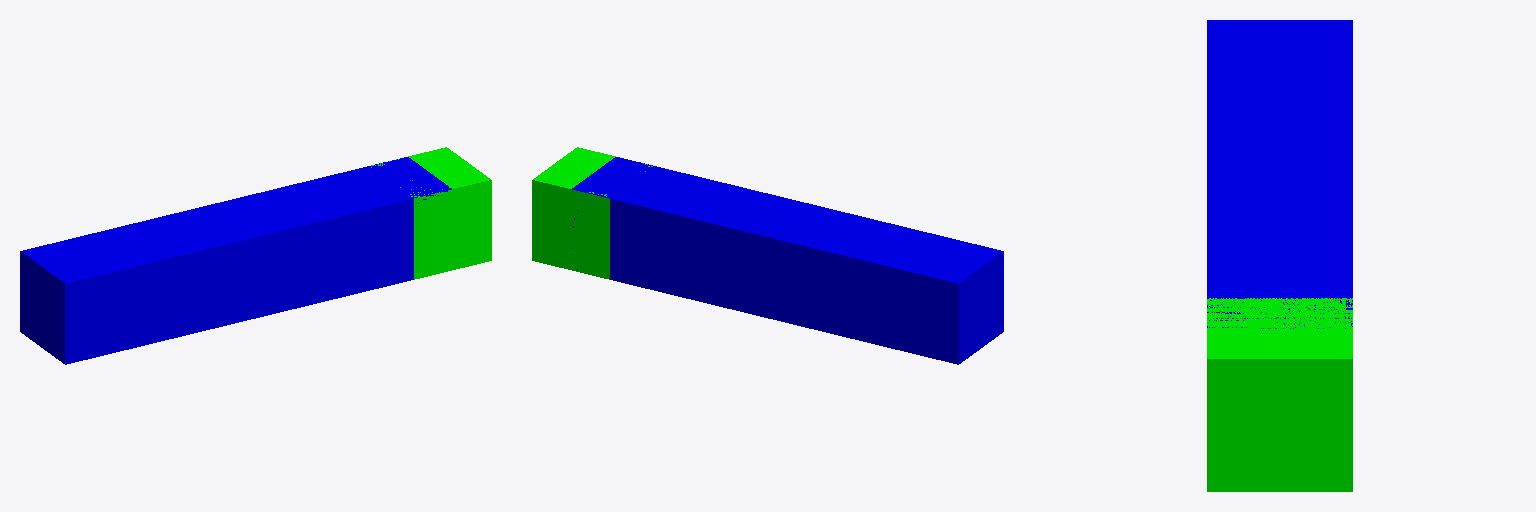
robot.urdf — abb_irb4600_60_205:
<?xml version="1.0" ?>
<!-- =================================================================================== -->
<!-- |    This document was autogenerated by xacro from [local-path]/catkin_ws/src/abb_irb4600_support/urdf/irb4600_60_205.xacro | -->
<!-- |    EDITING THIS FILE BY HAND IS NOT RECOMMENDED                                 | -->
<!-- =================================================================================== -->
<robot name="abb_irb4600_60_205">
    <!-- link list -->
    <link name="base_link">
        <collision name="collision">
            <geometry>
                <mesh filename="package://abb_irb4600_support/meshes/irb4600/collision/base_link.stl" />
            </geometry>
        </collision>
        <visual name="visual">
            <geometry>
                <mesh filename="package://abb_irb4600_support/meshes/irb4600/visual/base_link.dae" />
            </geometry>
            <material name="yellow">
                <color rgba="1 1 0 1" />
            </material>
        </visual>
        <inertial>
            <mass value="0.1" />
            <origin xyz="0 0 0" rpy="0 0 0" />
            <inertia ixx="0.03" iyy="0.03" izz="0.03" ixy="0.0" ixz="0.0" iyz="0.0" />
        </inertial>
    </link>
    <link name="link_1">
        <collision name="collision">
            <geometry>
                <mesh filename="package://abb_irb4600_support/meshes/irb4600/collision/link_1.stl" />
            </geometry>
        </collision>
        <visual name="visual">
            <geometry>
                <mesh filename="package://abb_irb4600_support/meshes/irb4600/visual/link_1.dae" />
            </geometry>
            <material name="yellow" />
        </visual>
        <inertial>
            <mass value="0.1" />
            <origin xyz="0 0 0" rpy="0 0 0" />
            <inertia ixx="0.03" iyy="0.03" izz="0.03" ixy="0.0" ixz="0.0" iyz="0.0" />
        </inertial>
    </link>
    <link name="link_2">
        <collision name="collision">
            <geometry>
                <mesh filename="package://abb_irb4600_support/meshes/irb4600_60_205/collision/link_2.stl" />
            </geometry>
        </collision>
        <visual name="visual">
            <geometry>
                <mesh filename="package://abb_irb4600_support/meshes/irb4600_60_205/visual/link_2.dae" />
            </geometry>
            <material name="yellow" />
        </visual>
        <inertial>
            <mass value="0.1" />
            <origin xyz="0 0 0" rpy="0 0 0" />
            <inertia ixx="0.03" iyy="0.03" izz="0.03" ixy="0.0" ixz="0.0" iyz="0.0" />
        </inertial>
    </link>
    <link name="link_3">
        <collision name="collision">
            <geometry>
                <mesh filename="package://abb_irb4600_support/meshes/irb4600_60_205/collision/link_3.stl" />
            </geometry>
        </collision>
        <visual name="visual">
            <geometry>
                <mesh filename="package://abb_irb4600_support/meshes/irb4600_60_205/visual/link_3.dae" />
            </geometry>
            <material name="yellow" />
        </visual>
        <inertial>
            <mass value="0.1" />
            <origin xyz="0 0 0" rpy="0 0 0" />
            <inertia ixx="0.03" iyy="0.03" izz="0.03" ixy="0.0" ixz="0.0" iyz="0.0" />
        </inertial>
    </link>
    <link name="link_4">
        <collision name="collision">
            <geometry>
                <mesh filename="package://abb_irb4600_support/meshes/irb4600_60_205/collision/link_4.stl" />
            </geometry>
        </collision>
        <visual name="visual">
            <geometry>
                <mesh filename="package://abb_irb4600_support/meshes/irb4600_60_205/visual/link_4.dae" />
            </geometry>
            <material name="yellow" />
        </visual>
        <inertial>
            <mass value="0.1" />
            <origin xyz="0 0 0" rpy="0 0 0" />
            <inertia ixx="0.03" iyy="0.03" izz="0.03" ixy="0.0" ixz="0.0" iyz="0.0" />
        </inertial>
    </link>
    <link name="link_5">
        <collision name="collision">
            <geometry>
                <mesh filename="package://abb_irb4600_support/meshes/irb4600_60_205/collision/link_5.stl" />
            </geometry>
        </collision>
        <visual name="visual">
            <geometry>
                <mesh filename="package://abb_irb4600_support/meshes/irb4600_60_205/visual/link_5.dae" />
            </geometry>
            <material name="yellow" />
        </visual>
        <inertial>
            <mass value="0.1" />
            <origin xyz="0 0 0" rpy="0 0 0" />
            <inertia ixx="0.03" iyy="0.03" izz="0.03" ixy="0.0" ixz="0.0" iyz="0.0" />
        </inertial>
    </link>
    <link name="link_6">
        <collision name="collision">
            <geometry>
                <mesh filename="package://abb_irb4600_support/meshes/irb4600_60_205/collision/link_6.stl" />
            </geometry>
        </collision>
        <visual name="visual">
            <geometry>
                <mesh filename="package://abb_irb4600_support/meshes/irb4600_60_205/visual/link_6.dae" />
            </geometry>
            <material name="yellow" />
        </visual>
        <inertial>
            <mass value="0.1" />
            <origin xyz="0 0 0" rpy="0 0 0" />
            <inertia ixx="0.03" iyy="0.03" izz="0.03" ixy="0.0" ixz="0.0" iyz="0.0" />
        </inertial>
    </link>
    <!-- end of link list -->
    <!-- joint list -->
    <joint name="joint_1" type="revolute">
        <origin rpy="0 0 0" xyz="0 0 0.495" />
        <axis xyz="0 0 1" />
        <parent link="base_link" />
        <child link="link_1" />
        <limit effort="0" lower="-3.141" upper="3.141" velocity="3.054" />
    </joint>
    <joint name="joint_2" type="revolute">
        <origin rpy="0 0 0" xyz="0.175 0 0" />
        <axis xyz="0 1 0" />
        <parent link="link_1" />
        <child link="link_2" />
        <limit effort="0" lower="-1.570" upper="2.617" velocity="3.054" />
    </joint>
    <joint name="joint_3" type="revolute">
        <origin rpy="0 0 0" xyz="0 0 0.9" />
        <axis xyz="0 1 0" />
        <parent link="link_2" />
        <child link="link_3" />
        <limit effort="0" lower="-3.141" upper="1.308" velocity="3.054" />
    </joint>
    <joint name="joint_4" type="revolute">
        <origin rpy="0 0 0" xyz="0 0 0.175" />
        <axis xyz="1 0 0" />
        <parent link="link_3" />
        <child link="link_4" />
        <limit effort="0" lower="-6.981" upper="6.981" velocity="4.363" />
    </joint>
    <joint name="joint_5" type="revolute">
        <origin rpy="0 0 0" xyz="0.960 0 0 " />
        <axis xyz="0 1 0" />
        <parent link="link_4" />
        <child link="link_5" />
        <limit effort="0" lower="-2.181" upper="2.094" velocity="4.363" />
    </joint>
    <joint name="joint_6" type="revolute">
        <origin rpy="0 0 0" xyz="0.135 0 0 " />
        <axis xyz="1 0 0" />
        <parent link="link_5" />
        <child link="link_6" />
        <limit effort="0" lower="-6.981" upper="6.981" velocity="6.283" />
    </joint>
    <!-- end of joint list -->
    <!-- ROS-Industrial 'base' frame: base_link to ABB World Coordinates transform -->
    <link name="base" />
    <joint name="base_link-base" type="fixed">
        <origin rpy="0 0 0" xyz="0 0 0" />
        <parent link="base_link" />
        <child link="base" />
    </joint>
    <!-- ROS-Industrial 'flange' frame: attachment point for EEF models -->
    <link name="flange" />
    <joint name="joint_6-flange" type="fixed">
        <origin rpy="0 0 0" xyz="0 0 0" />
        <parent link="link_6" />
        <child link="flange" />
    </joint>
    <link name="-toolbase">
        <visual>
            <geometry>
                <box size=" 0.1 0.02 0.02" />
            </geometry>
            <material name="blue">
                <color rgba="0 0 1 1" />
            </material>
            <origin rpy="0 0 0" xyz="0.05 0 0" />
        </visual>
    </link>
    <joint name="joint_toolbase" type="fixed">
        <origin rpy="0 0 0" xyz="0 0 0" />
        <parent link="flange" />
        <child link="-toolbase" />
    </joint>
    <link name="-toolend">
        <visual>
            <geometry>
                <box size=" 0.02 0.02 0.02" />
            </geometry>
            <material name="green">
                <color rgba="0 1 0 1" />
            </material>
            <origin rpy="0 0 0" xyz="0.1 0 0" />
        </visual>
    </link>
    <joint name="joint_toolend" type="fixed">
        <origin rpy="0 0 0" xyz="0 0 0" />
        <parent link="-toolbase" />
        <child link="-toolend" />
    </joint>
    <!-- ROS-Industrial 'tool0' frame: all-zeros tool frame -->
    <link name="tool0" />
    <joint name="link_6-tool0" type="fixed">
        <origin rpy="0 1.5707963267948966 0" xyz="0 0 0" />
        <parent link="-toolend" />
        <child link="tool0" />
    </joint>
    <transmission name="trans_joint_1">
        <type>transmission_interface/SimpleTransmission</type>
        <joint name="joint_1">
            <hardwareInterface>hardware_interface/EffortJointInterface</hardwareInterface>
        </joint>
        <actuator name="joint_1_motor">
            <hardwareInterface>hardware_interface/EffortJointInterface</hardwareInterface>
            <mechanicalReduction>1</mechanicalReduction>
        </actuator>
    </transmission>
    <transmission name="trans_joint_2">
        <type>transmission_interface/SimpleTransmission</type>
        <joint name="joint_2">
            <hardwareInterface>hardware_interface/EffortJointInterface</hardwareInterface>
        </joint>
        <actuator name="joint_2_motor">
            <hardwareInterface>hardware_interface/EffortJointInterface</hardwareInterface>
            <mechanicalReduction>1</mechanicalReduction>
        </actuator>
    </transmission>
    <transmission name="trans_joint_3">
        <type>transmission_interface/SimpleTransmission</type>
        <joint name="joint_3">
            <hardwareInterface>hardware_interface/EffortJointInterface</hardwareInterface>
        </joint>
        <actuator name="joint_3_motor">
            <hardwareInterface>hardware_interface/EffortJointInterface</hardwareInterface>
            <mechanicalReduction>1</mechanicalReduction>
        </actuator>
    </transmission>
    <transmission name="trans_joint_4">
        <type>transmission_interface/SimpleTransmission</type>
        <joint name="joint_4">
            <hardwareInterface>hardware_interface/EffortJointInterface</hardwareInterface>
        </joint>
        <actuator name="joint_4_motor">
            <hardwareInterface>hardware_interface/EffortJointInterface</hardwareInterface>
            <mechanicalReduction>1</mechanicalReduction>
        </actuator>
    </transmission>
    <transmission name="trans_joint_5">
        <type>transmission_interface/SimpleTransmission</type>
        <joint name="joint_5">
            <hardwareInterface>hardware_interface/EffortJointInterface</hardwareInterface>
        </joint>
        <actuator name="joint_5_motor">
            <hardwareInterface>hardware_interface/EffortJointInterface</hardwareInterface>
            <mechanicalReduction>1</mechanicalReduction>
        </actuator>
    </transmission>
    <transmission name="trans_joint_6">
        <type>transmission_interface/SimpleTransmission</type>
        <joint name="joint_6">
            <hardwareInterface>hardware_interface/EffortJointInterface</hardwareInterface>
        </joint>
        <actuator name="joint_6_motor">
            <hardwareInterface>hardware_interface/EffortJointInterface</hardwareInterface>
            <mechanicalReduction>1</mechanicalReduction>
        </actuator>
    </transmission>
    <gazebo>
        <plugin name="gazebo_ros_control">
            <robotNamespace>/</robotNamespace>
        </plugin>
    </gazebo>
</robot>

--- Render facts (derived) ---
The picture shows the robot from 3 angles, left to right: view 1: azimuth 30°, elevation 25°; view 2: azimuth 150°, elevation 25°; view 3: azimuth 270°, elevation 25°; orthographic projection.
Robot: abb_irb4600_60_205 — 12 links, 11 joints (6 revolute, 5 fixed); root link base_link; default pose: every joint at zero.
Visible links, largest first — view 1: -toolbase, -toolend; view 2: -toolbase, -toolend; view 3: -toolbase, -toolend.
Boxes of the visible links, bbox=[...] form: -toolbase: bbox=[20, 157, 451, 364]; -toolend: bbox=[371, 147, 491, 279]; -toolbase: bbox=[572, 157, 1003, 364]; -toolend: bbox=[532, 147, 652, 279]; -toolbase: bbox=[1207, 20, 1352, 328]; -toolend: bbox=[1207, 298, 1352, 491].
Size in the robot's own frame: 0.11 by 0.02 by 0.02 metres.
Meshes: 7 distinct files referenced, 0 mesh visuals loaded (none loaded); not drawn: 7 (reference not matched to a file when rendering).